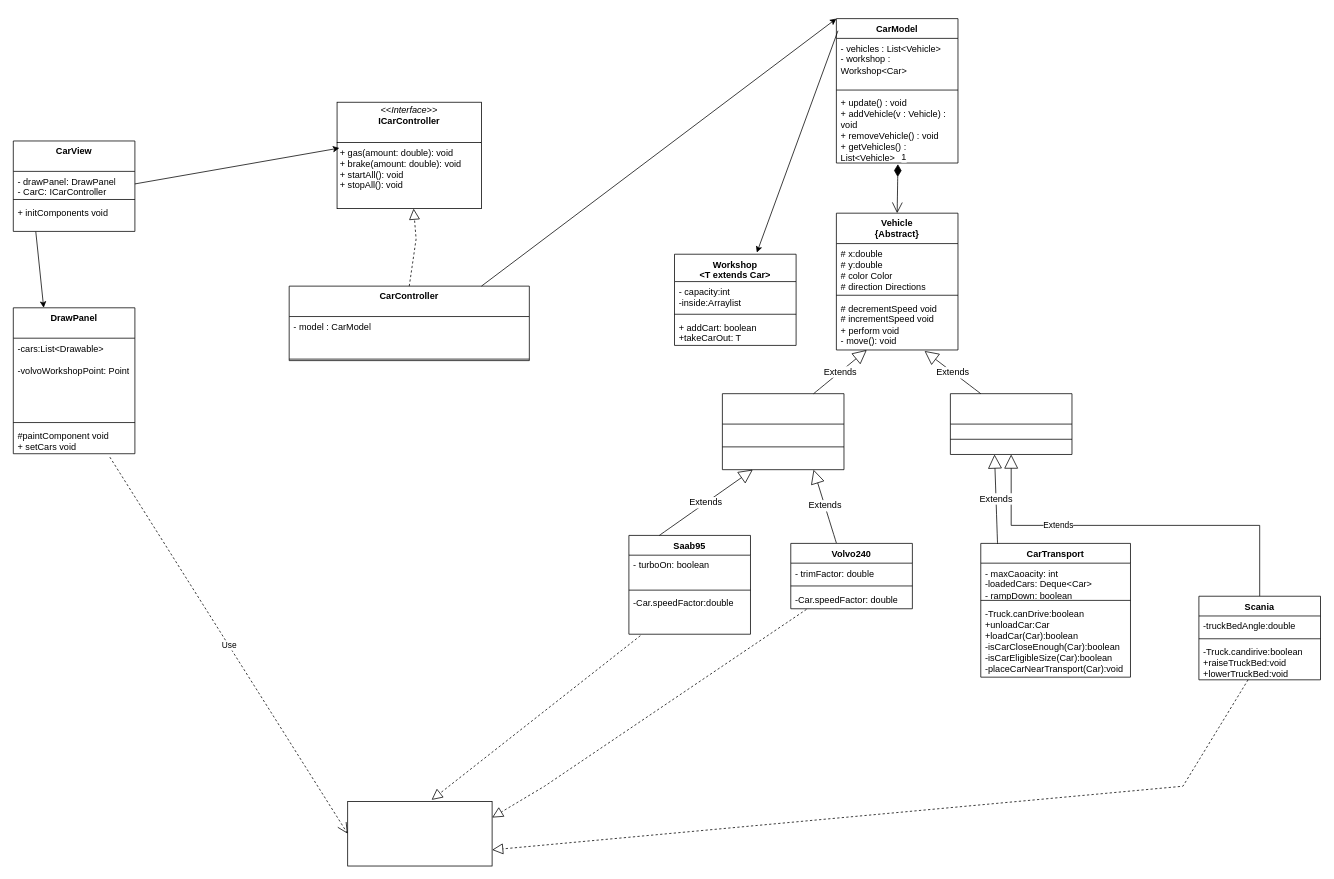
The diagram is 1334 pixels wide and 879 high, and some of its shapes have lost their labels. The shapes that lost their labels are listed below. From the top down, each one's centre as x and y in pixels, then its label:
At pixel 783 431: "Car {Abstract}".
At pixel 1011 423: "Truck {Abstract}".
At pixel 419 833: "<<Interface>> Drawable + getImagePath(): String".
